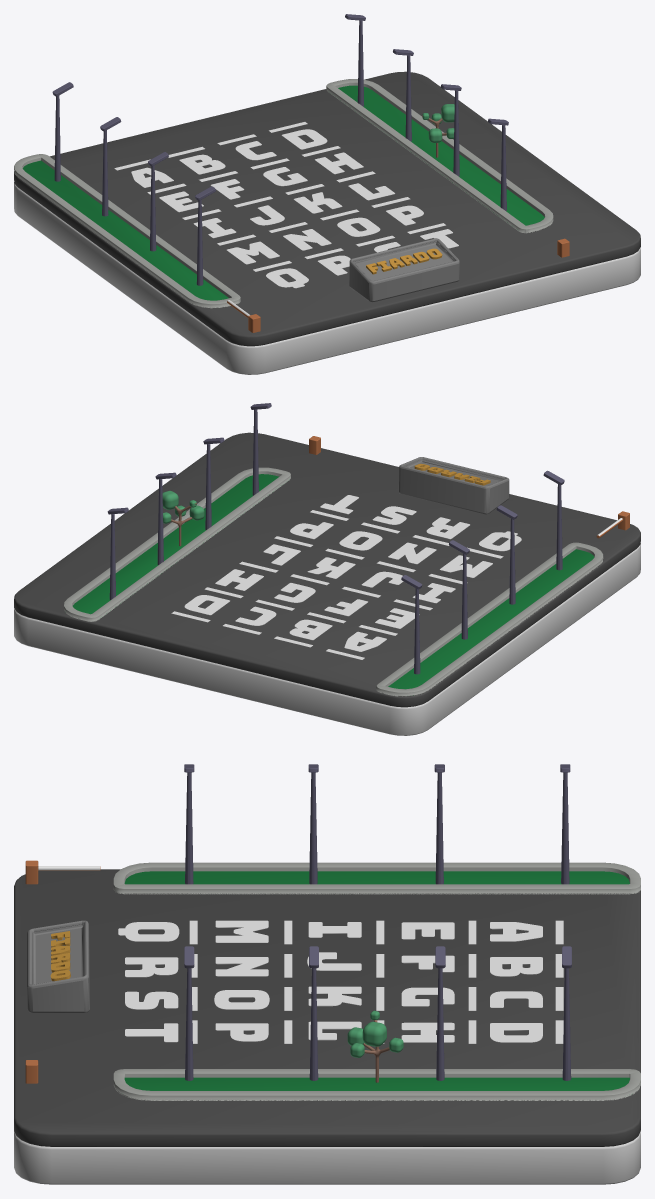
File: movie_without_screen_draco.glb
The picture shows the model from 3 angles, top to bottom: view 1: azimuth 30°, elevation 25°; view 2: azimuth 150°, elevation 25°; view 3: azimuth 270°, elevation 25°; orthographic projection. The views are drawn at different scales.
Visible parts, largest first — view 1: asphalt, base, refuge-islands, lamps, buliding, bumps, mnop, abcd, efgh, ijkl, qrst, company-logo (+1 smaller); view 2: asphalt, base, refuge-islands, lamps, buliding, bumps, mnop, abcd, qrst, efgh, ijkl, automatics (+1 smaller); view 3: asphalt, refuge-islands, base, lamps, buliding, bumps, mnop, abcd, qrst, efgh, ijkl, automatics (+1 smaller).
Part boxes in pixels (x1,y1,x2,y2): asphalt: (14,71,640,346); base: (14,182,640,374); refuge-islands: (14,79,553,308); lamps: (52,14,508,285); buliding: (349,238,459,302); bumps: (114,122,445,271); mnop: (226,205,423,264); abcd: (131,129,327,187); efgh: (159,152,363,212); ijkl: (193,183,395,238); qrst: (266,229,458,288); company-logo: (366,248,442,274); asphalt: (14,432,640,707); base: (14,543,640,735); refuge-islands: (64,467,603,696); lamps: (107,403,564,674); buliding: (398,457,509,514); bumps: (171,510,503,659); mnop: (290,522,492,577); abcd: (184,595,386,651); qrst: (320,495,521,551); efgh: (215,569,419,628); ijkl: (263,544,455,603); automatics: (309,436,629,538); asphalt: (14,869,640,1146); refuge-islands: (113,862,640,1100); base: (14,1130,640,1184); lamps: (184,764,571,1080); buliding: (27,920,89,1012); bumps: (189,920,563,1043); mnop: (214,920,269,1041); abcd: (490,922,542,1042); qrst: (118,922,179,1042); efgh: (401,922,454,1042); ijkl: (307,922,361,1040); automatics: (25,860,100,1083).
Size of the model in its own units: 10 by 3.13 by 10.
